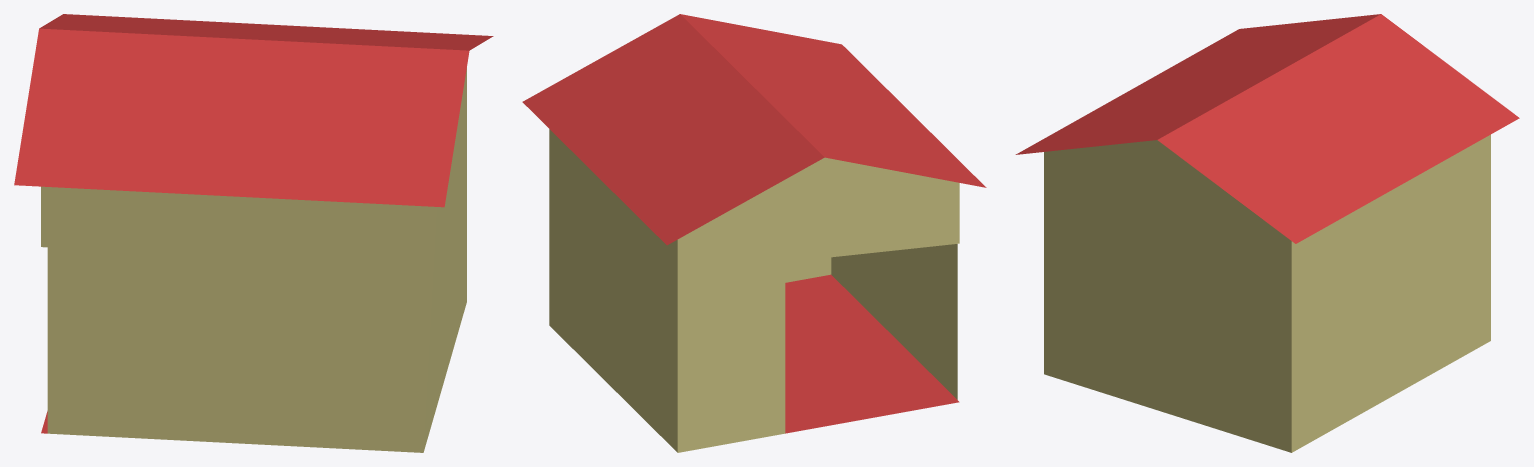
3 renders of one model, left to right at view 1: azimuth 30°, elevation 25°; view 2: azimuth 150°, elevation 25°; view 3: azimuth 270°, elevation 25°, orthographic. The views are drawn at different scales.
Bounding box in the file's own units: 18.41 × 18.25 × 11.22.
